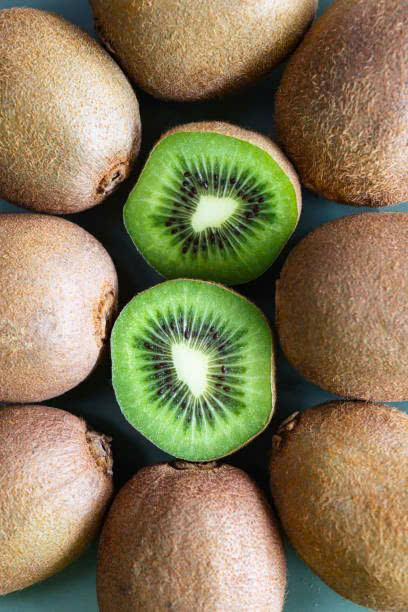kiwi: (107, 273, 270, 464), (114, 110, 300, 273), (92, 459, 286, 612), (1, 2, 131, 209), (276, 399, 408, 602), (280, 0, 408, 206), (279, 204, 408, 403), (95, 0, 317, 114), (3, 210, 112, 402), (4, 407, 106, 605)
